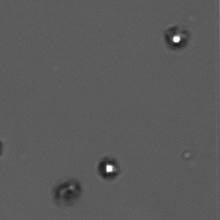Dead Cell: (54, 179, 81, 205)
Living Cell: (164, 26, 189, 48), (97, 157, 119, 180)
